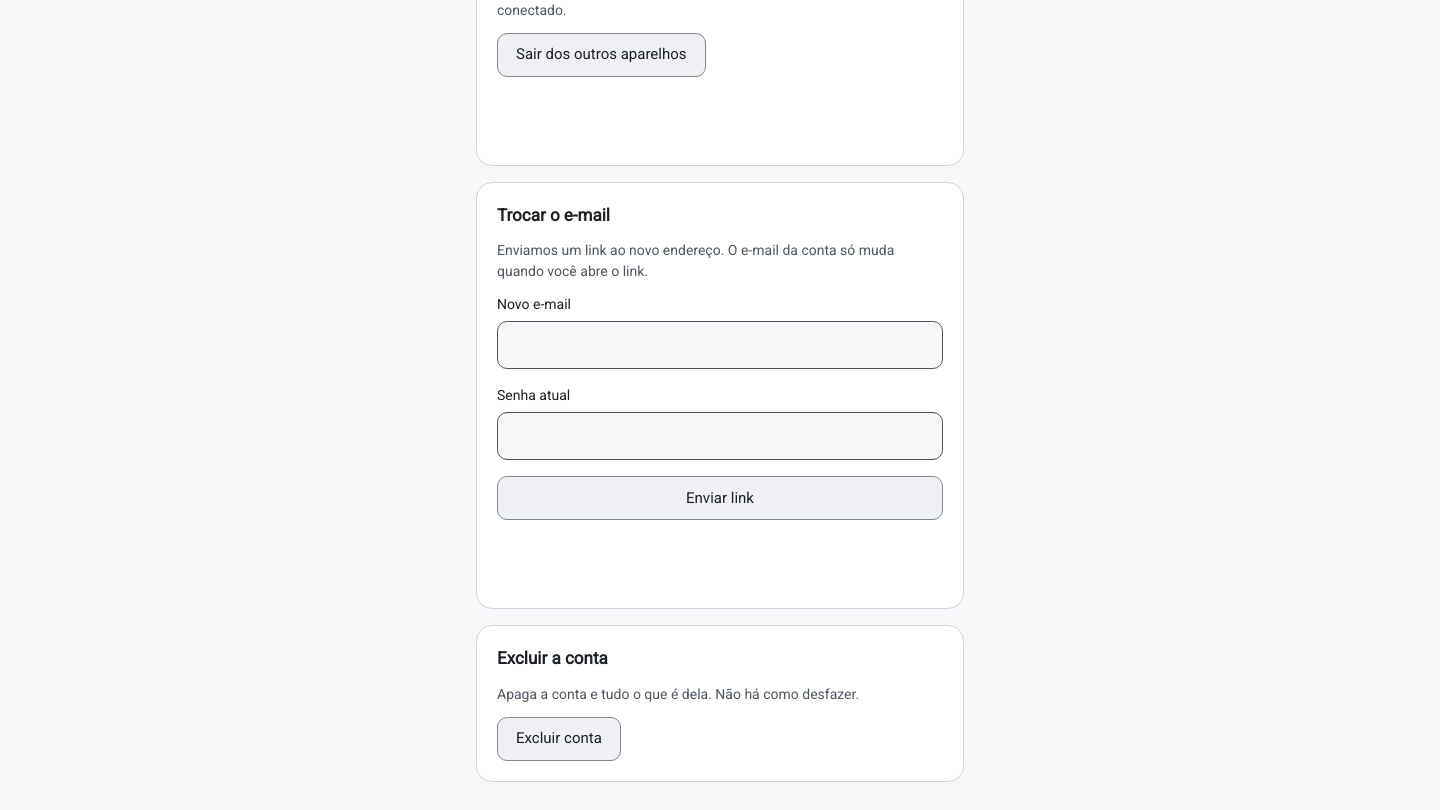
Scenario: AccountPage › deletes the account: cleans this device, keeps the guest data and lands as a guest
(page scrolled)
Step 1. Click the button "Excluir conta" → (559, 738), box x1=497 y1=716 x2=621 y2=760
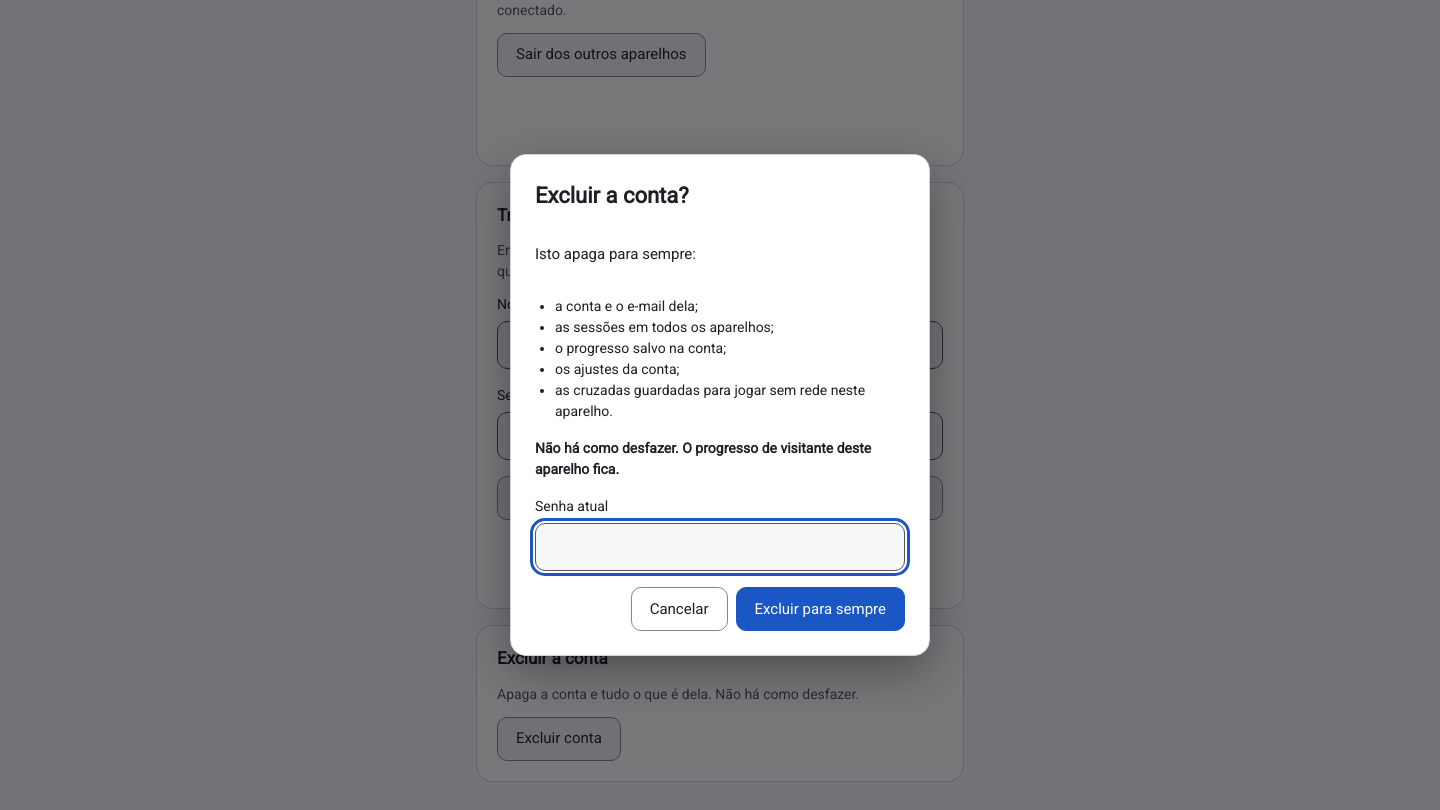
Expected: the text "Não há como desfazer" is shown, x1=535 y1=440 x2=871 y2=477
Step 2. Type "senha-boa-123" into the password field labelled "Senha atual" → (720, 547), box x1=535 y1=523 x2=905 y2=571
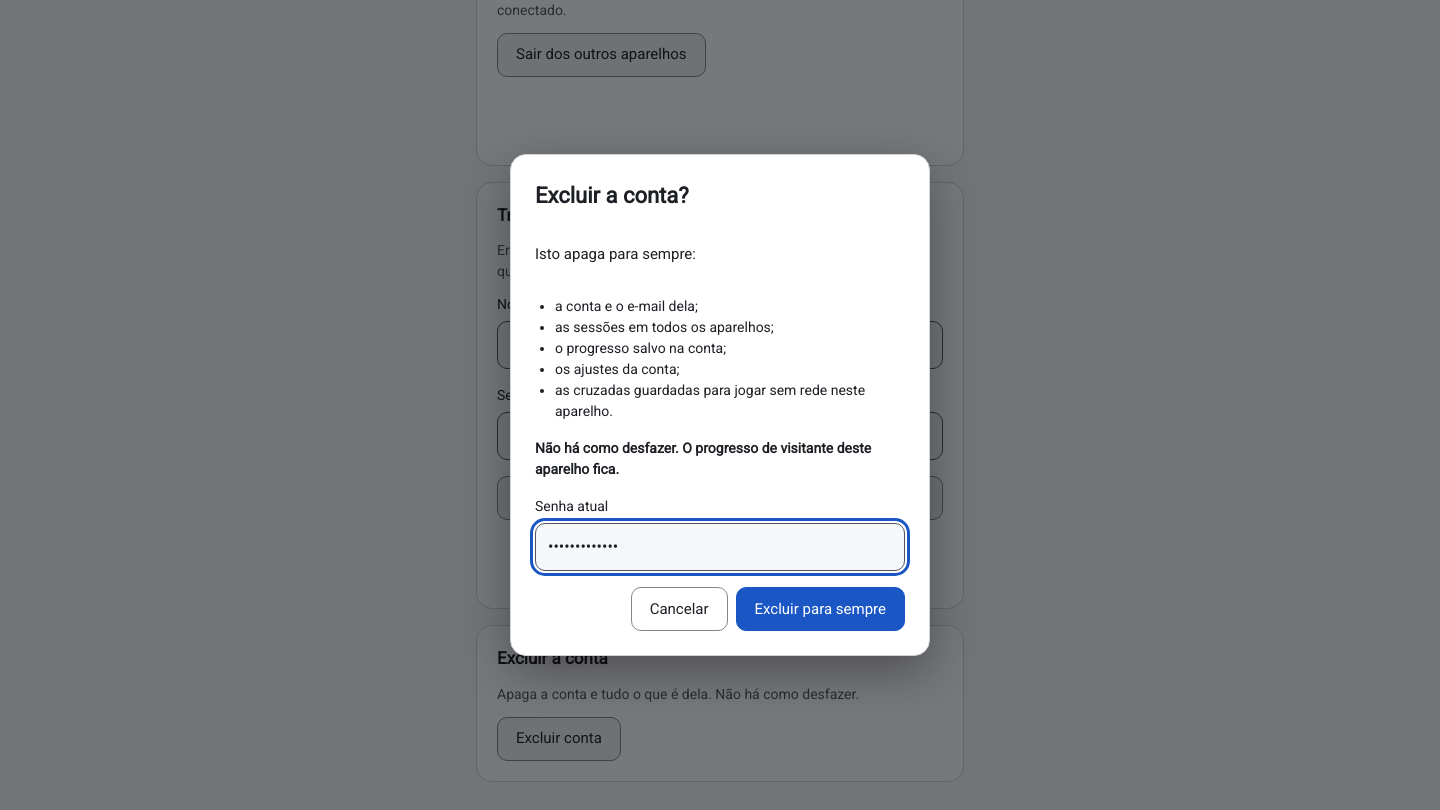
Step 3. Click the button "Excluir para sempre" → (820, 609), box x1=736 y1=587 x2=905 y2=631
(page scrolled)
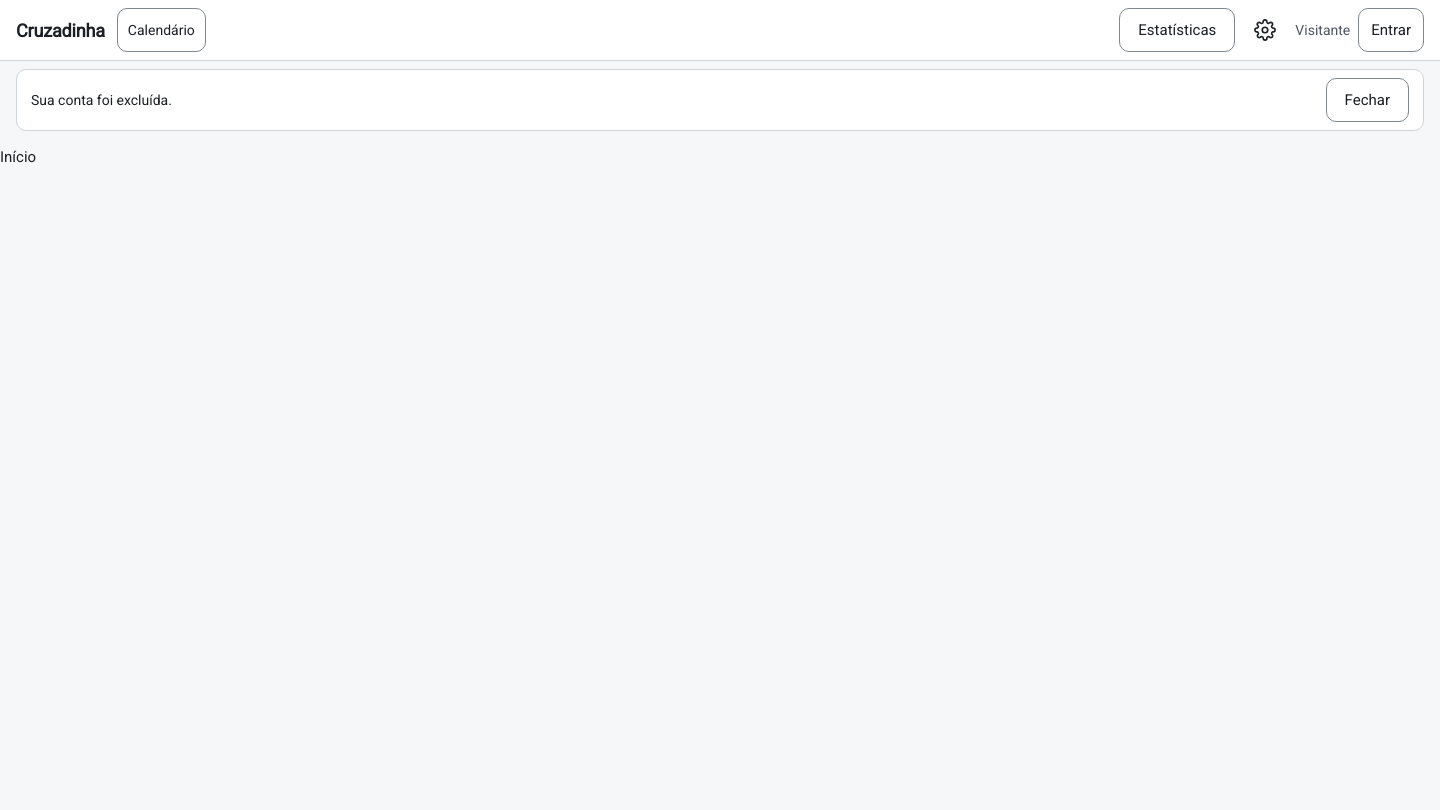
Expected: the text "Início" is shown, x1=0 y1=148 x2=36 y2=166
Expected: the text "Sua conta foi excluída." is shown, x1=31 y1=92 x2=172 y2=108
